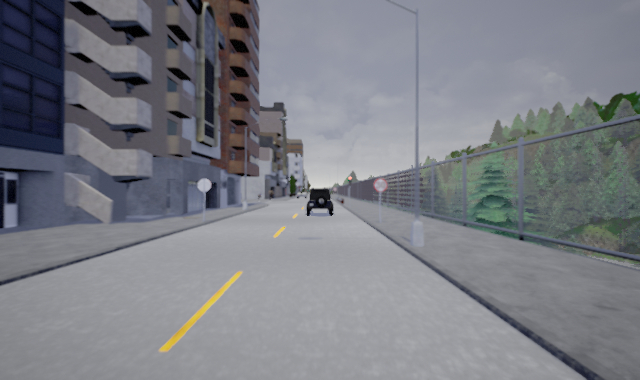traffic_sign: (373, 176, 389, 194)
vehicle: (306, 187, 334, 215)
